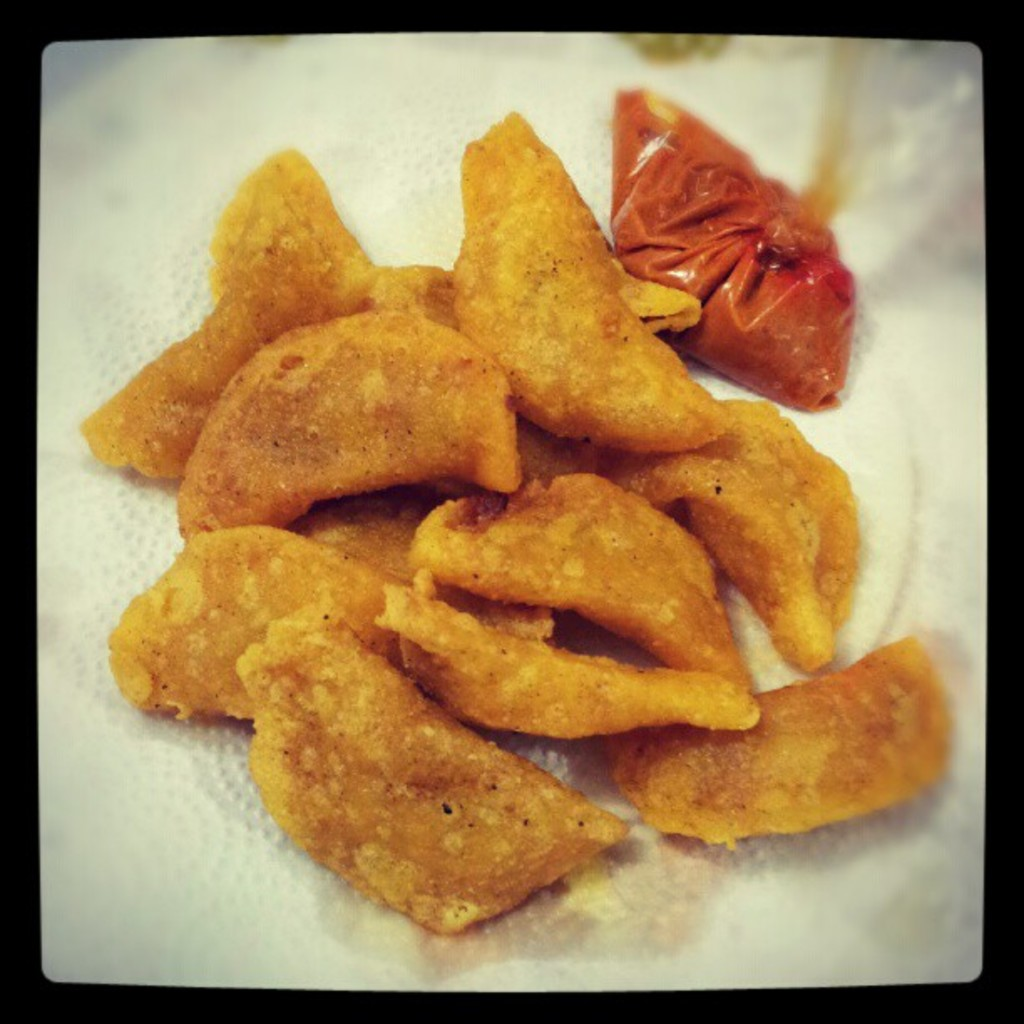French fries: (80, 110, 952, 933)
